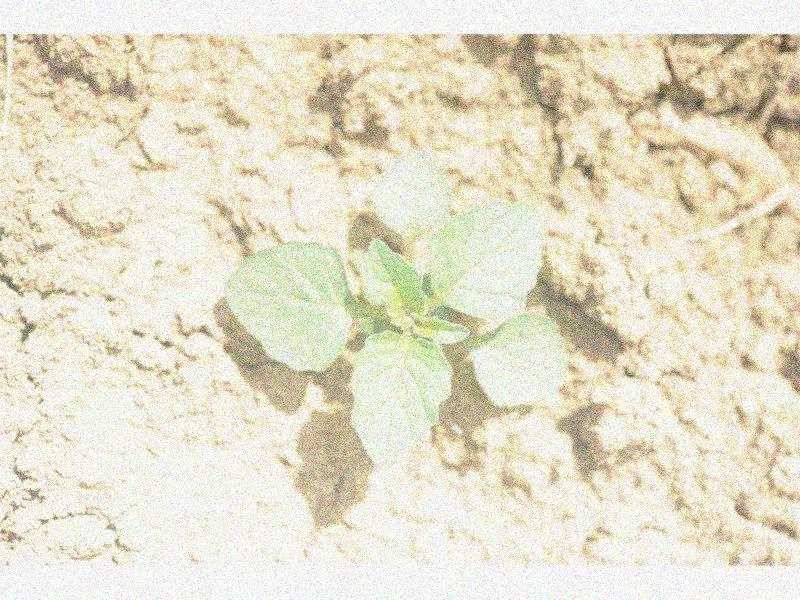nightshade: (224, 151, 568, 470)
